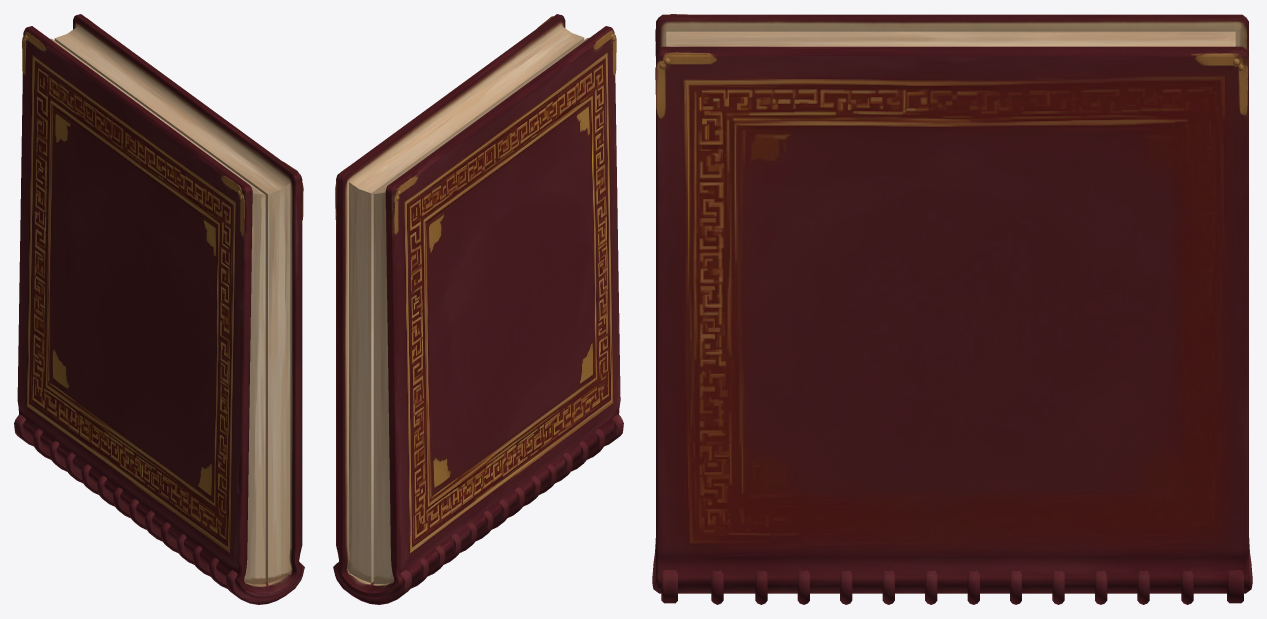
The model's file is SM_Book_01.fbx.
The picture shows the model from 3 angles, left to right: view 1: azimuth 30°, elevation 25°; view 2: azimuth 150°, elevation 25°; view 3: azimuth 270°, elevation 25°; orthographic projection. The views are drawn at different scales.
Parts seen in each view (by area): view 1: SM_Book_01; view 2: SM_Book_01; view 3: SM_Book_01.
Part boxes in pixels (x1,y1,x2,y2): SM_Book_01: (14, 14, 304, 604); SM_Book_01: (333, 14, 623, 604); SM_Book_01: (652, 14, 1252, 604).
Bounding box in the file's own units: 21.09 × 115 × 110.
Materials: 1 (1 with a texture image).
